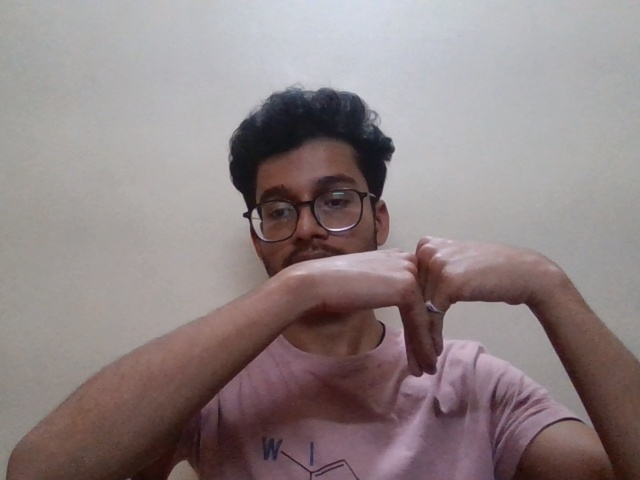yesterday: (293, 224, 539, 399)
